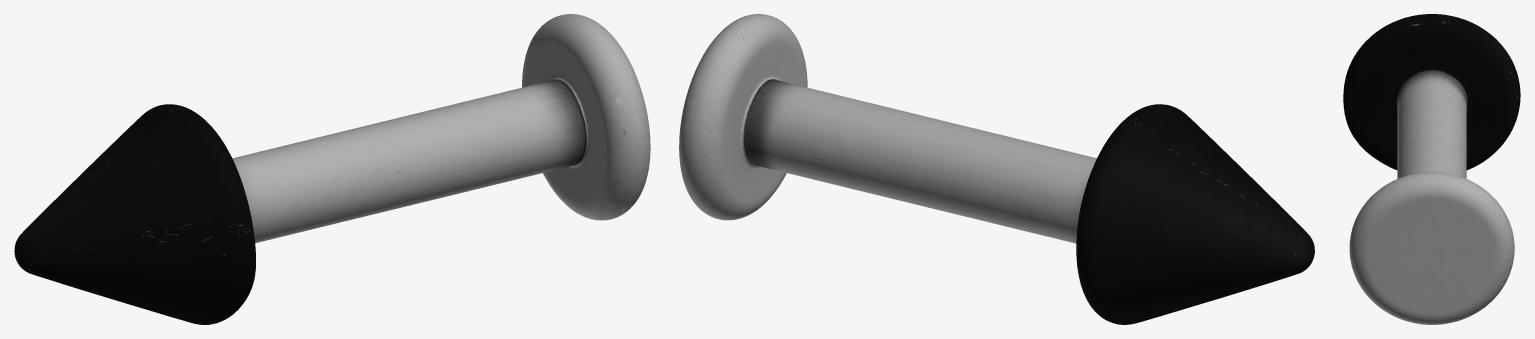
File: black_spike.glb
The picture shows the model from 3 angles, left to right: view 1: azimuth 30°, elevation 25°; view 2: azimuth 150°, elevation 25°; view 3: azimuth 270°, elevation 25°; orthographic projection. The views are drawn at different scales.
Parts seen in each view (by area): view 1: Mesh_0; view 2: Mesh_0; view 3: Mesh_0.
Boxes of the visible parts, x1,y1,x2,y2 form: Mesh_0: (14, 14, 650, 324); Mesh_0: (679, 14, 1314, 324); Mesh_0: (1343, 14, 1520, 324).
Size of the model in its own units: 1.91 by 0.6321 by 0.6339.
Materials: 1 (1 with a texture image).
